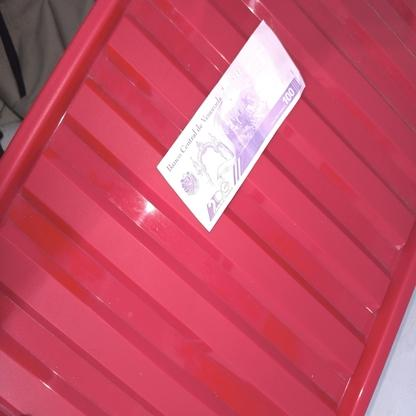one_hundred-back-vef: (156, 19, 306, 232)
